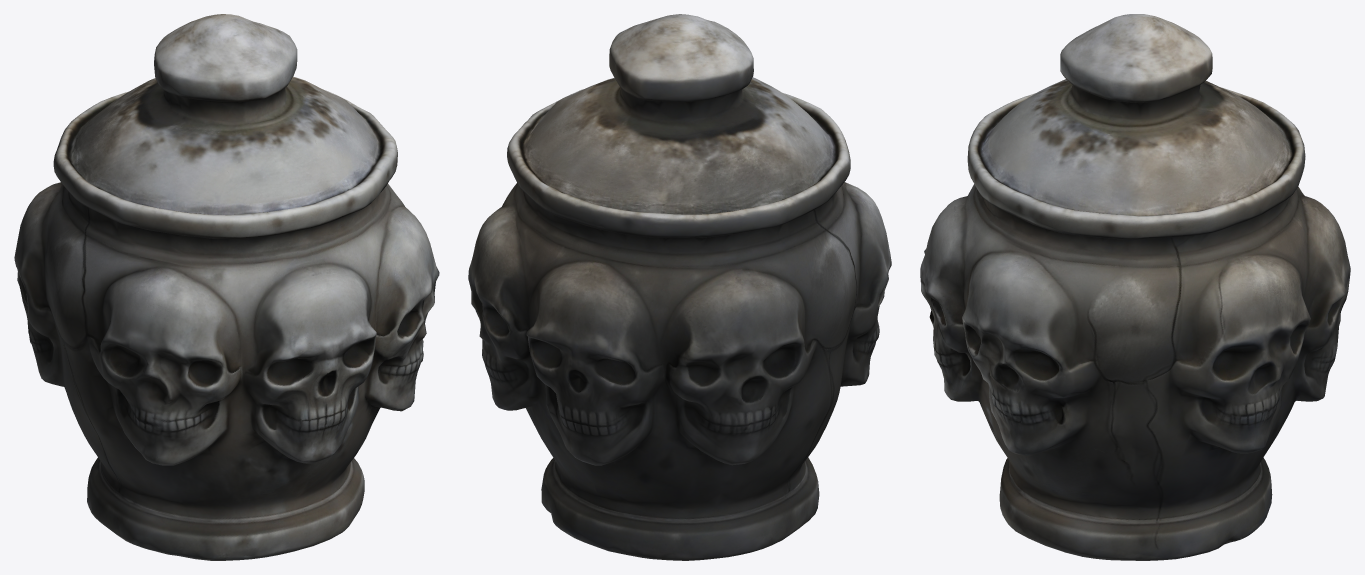
File: burial_urn.glb
3 views of the same model, side by side, from view 1: azimuth 30°, elevation 25°; view 2: azimuth 150°, elevation 25°; view 3: azimuth 270°, elevation 25° (orthographic).
Bounding box in the file's own units: 1.42 × 2 × 1.58.
1 material, 1 textured.
